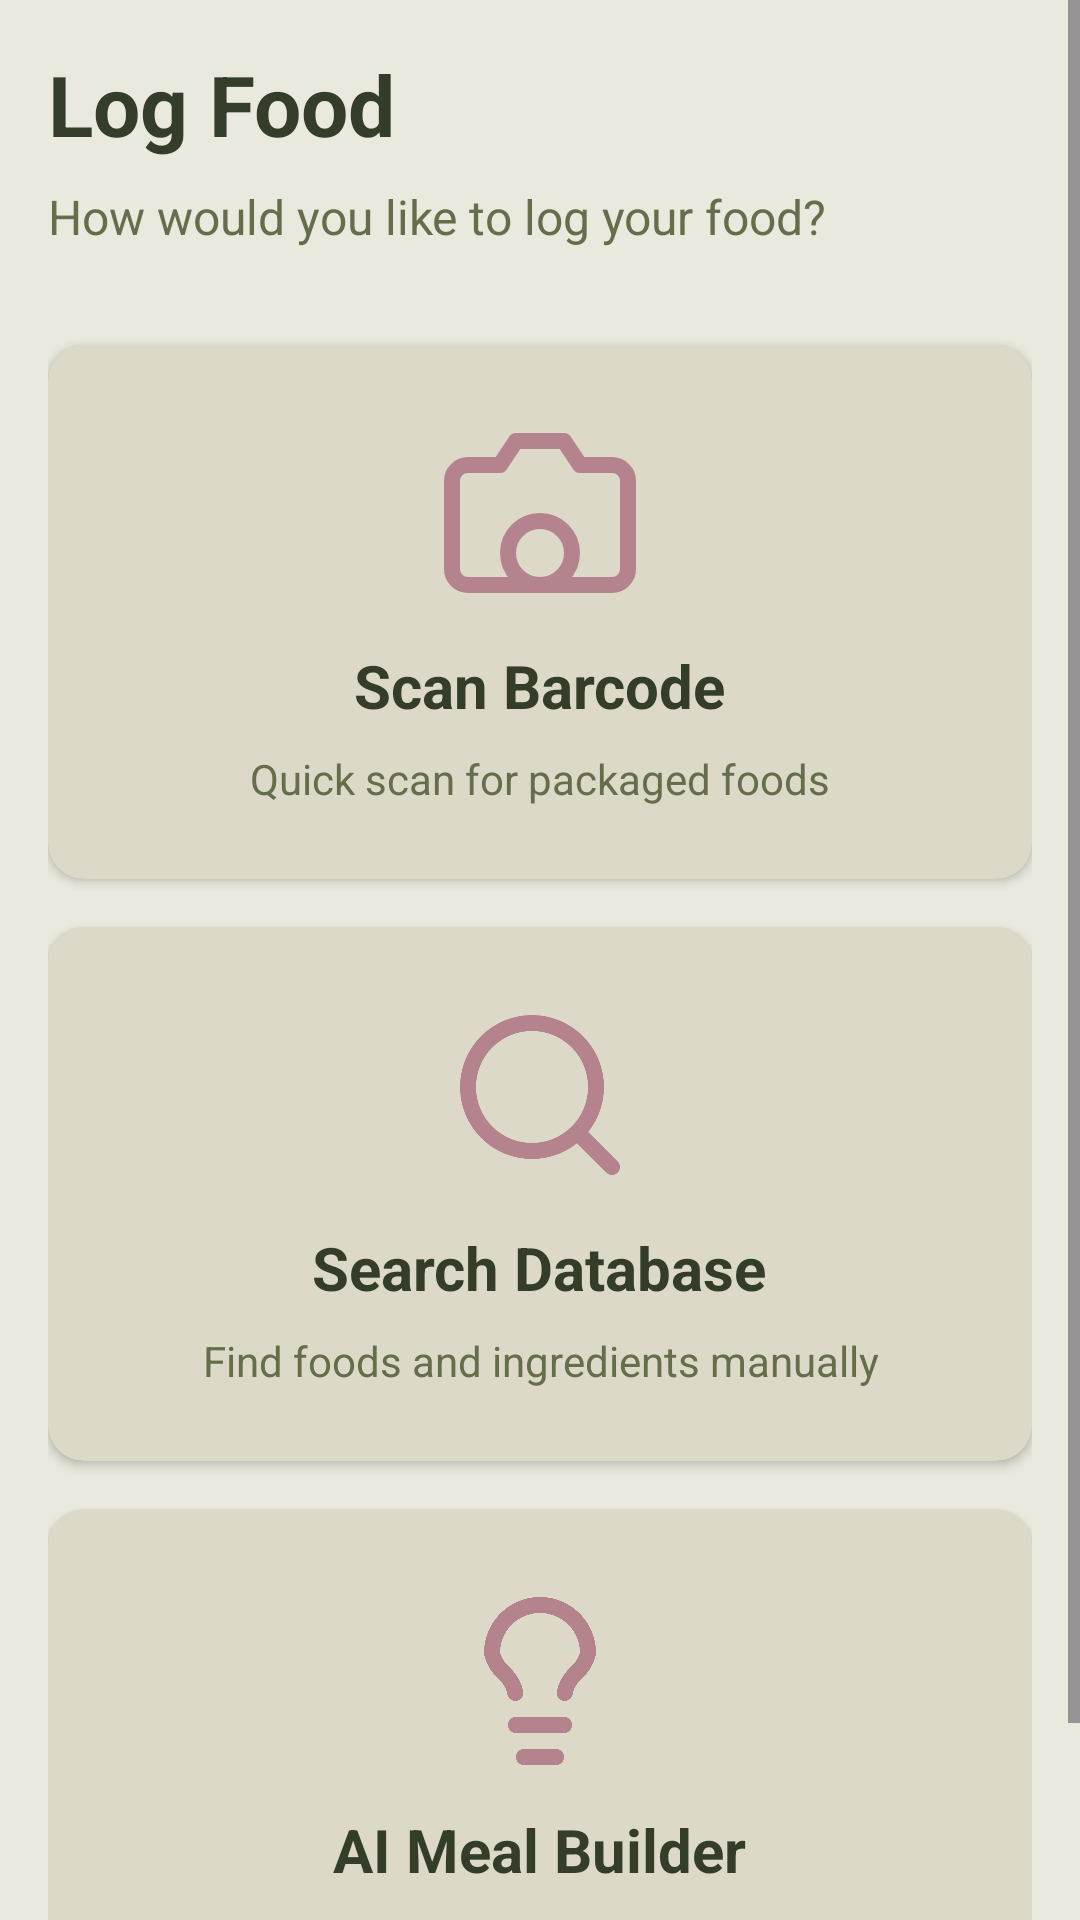

Icon bounding boxes for this 1080x1920 phone screenshot, format {"left": x1, "top": y1, "right": x2, "bottom": y2}:
AI suggestions icon: {"left": 484, "top": 1597, "right": 596, "bottom": 1765}
Camera icon: {"left": 444, "top": 433, "right": 636, "bottom": 593}
